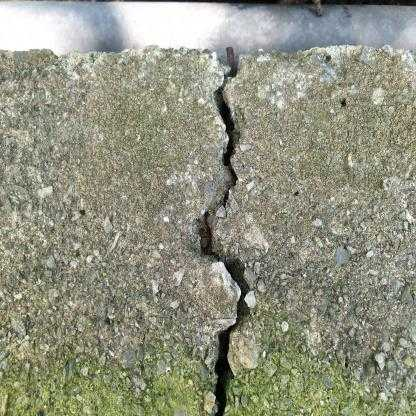crack: (197, 57, 250, 415)
